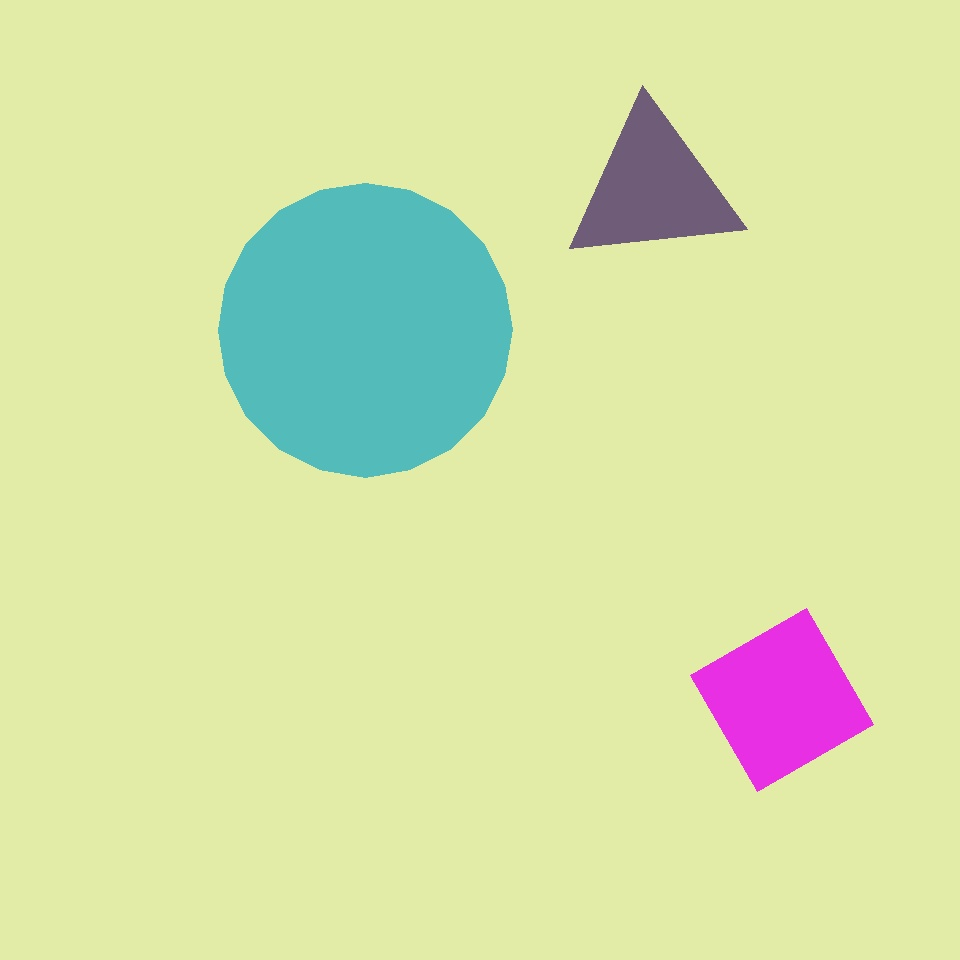circle: (564, 106, 742, 270)
square: (690, 608, 874, 792)
triangle: (16, 178, 387, 548), (218, 183, 512, 477), (216, 108, 379, 272), (164, 84, 327, 247)
